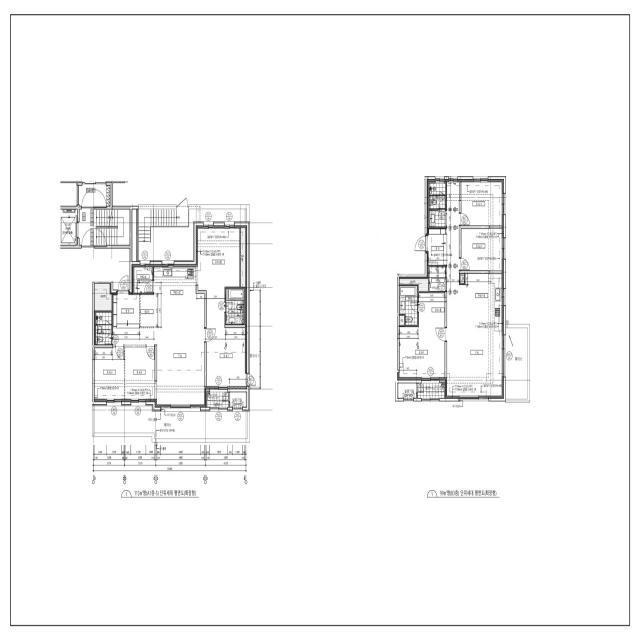space_balconi: (250, 290, 259, 387), (418, 383, 444, 398), (207, 392, 229, 407)
space_bedroom: (207, 290, 247, 389), (398, 327, 445, 380), (461, 179, 504, 226), (461, 229, 504, 271), (125, 348, 155, 402), (94, 348, 124, 402)
space_dressroom: (196, 226, 240, 290), (419, 293, 445, 327)
space_elevator: (60, 209, 77, 245)
space_front: (113, 291, 139, 328), (426, 229, 447, 265)
space_kitchen: (140, 265, 204, 329), (459, 274, 504, 332)
space_living_room: (446, 180, 504, 398), (113, 327, 206, 407)
space_multipurpose_space: (134, 265, 153, 293)
space_other: (94, 284, 112, 311), (399, 277, 428, 291), (60, 183, 77, 206), (429, 267, 445, 291), (241, 226, 247, 287), (113, 183, 128, 206), (132, 209, 136, 262), (460, 274, 464, 283), (400, 316, 404, 325)
space_outdoor_room: (398, 383, 416, 398), (230, 392, 247, 407)
space_staircase: (138, 209, 245, 261), (78, 184, 130, 245)
space_toilet: (429, 183, 446, 227), (400, 286, 417, 325), (226, 289, 244, 324), (96, 313, 111, 345)
